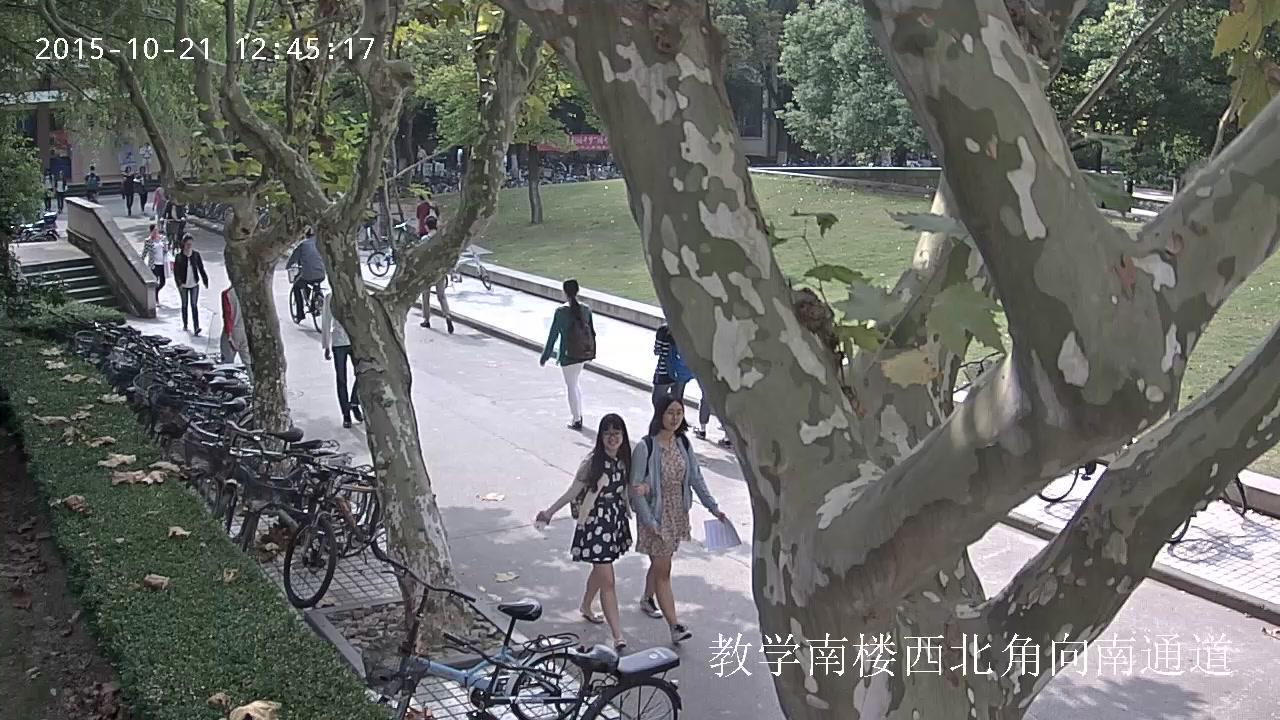person: (627, 394, 743, 644), (537, 414, 649, 650), (540, 278, 597, 430), (324, 292, 364, 428), (650, 322, 690, 432), (418, 214, 454, 333), (286, 228, 326, 333), (173, 235, 209, 337), (287, 229, 324, 322), (219, 283, 253, 375), (141, 224, 169, 307), (165, 196, 188, 255), (166, 197, 186, 250), (119, 165, 136, 217), (153, 183, 169, 233), (40, 166, 56, 212), (83, 164, 101, 203), (137, 165, 151, 215), (54, 167, 68, 214), (417, 195, 429, 237), (427, 190, 439, 221)
